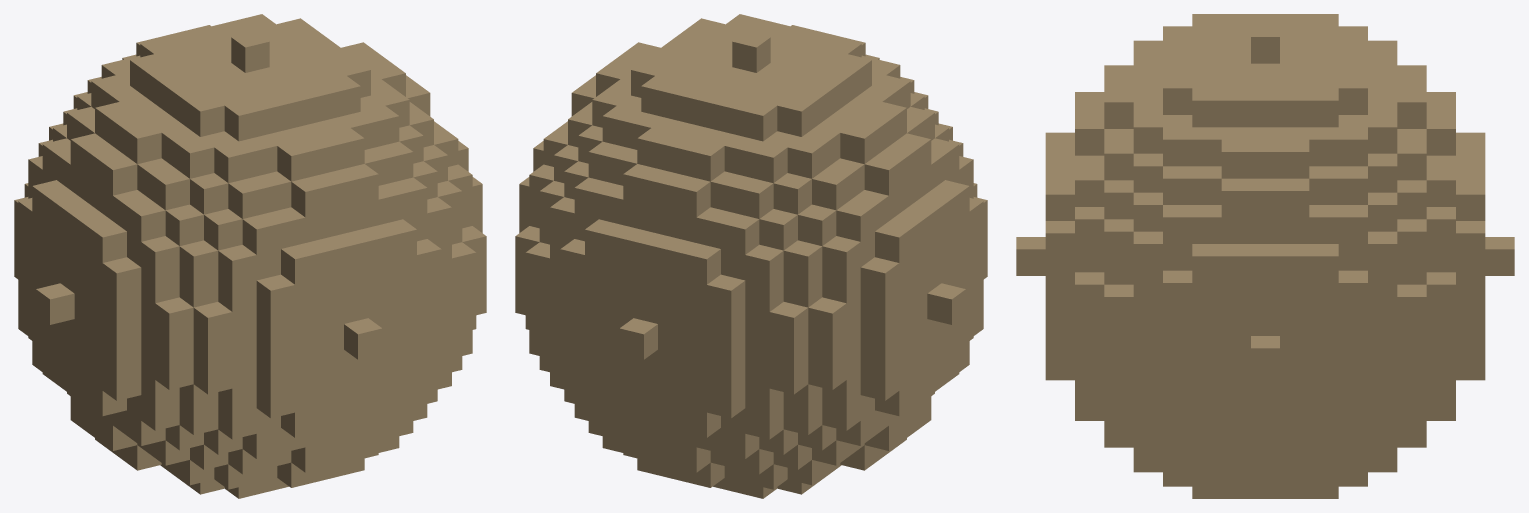
Rendered from pets-16.glb.
3 views of the same model, side by side, from view 1: azimuth 30°, elevation 25°; view 2: azimuth 150°, elevation 25°; view 3: azimuth 270°, elevation 25° (orthographic). The views are drawn at different scales.
Parts seen in each view (by area): view 1: Tennis ball; view 2: Tennis ball; view 3: Tennis ball.
Part boxes in pixels (x1=…): Tennis ball: x1=14, y1=14, x2=486, y2=498; Tennis ball: x1=515, y1=14, x2=987, y2=498; Tennis ball: x1=1016, y1=14, x2=1514, y2=498.
Bounding box in the file's own units: 1.36 × 1.36 × 1.36.
